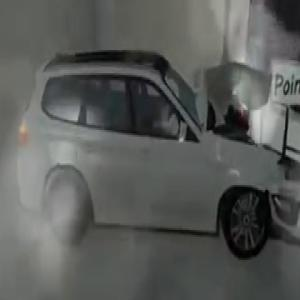serious: (12, 0, 300, 272)
